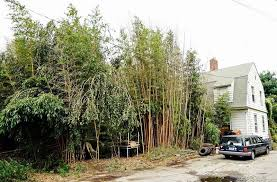bamboo: (1, 2, 109, 153), (94, 23, 206, 147)
